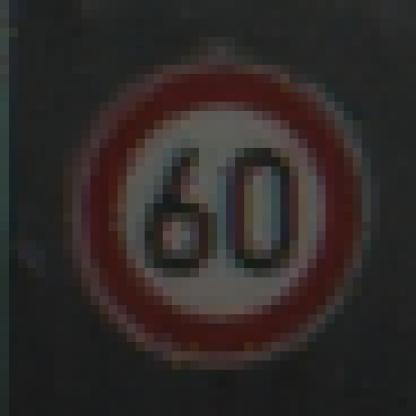Speed Limit 60: (90, 66, 359, 359)
